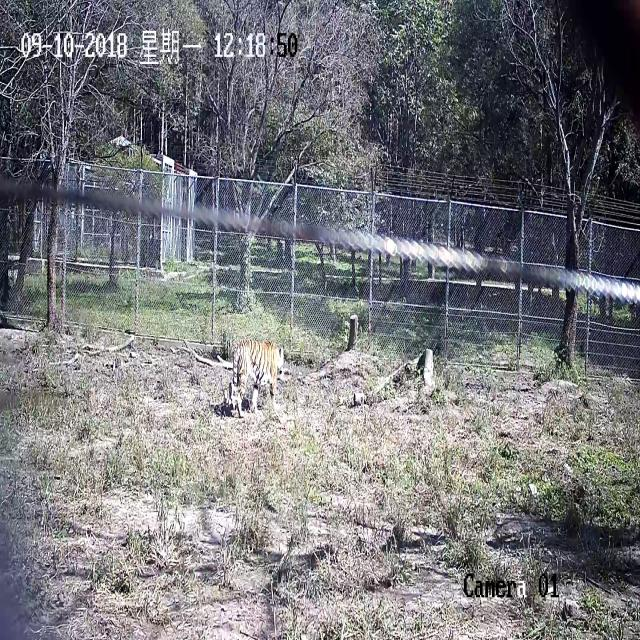Tiger: (194, 276, 317, 456)
